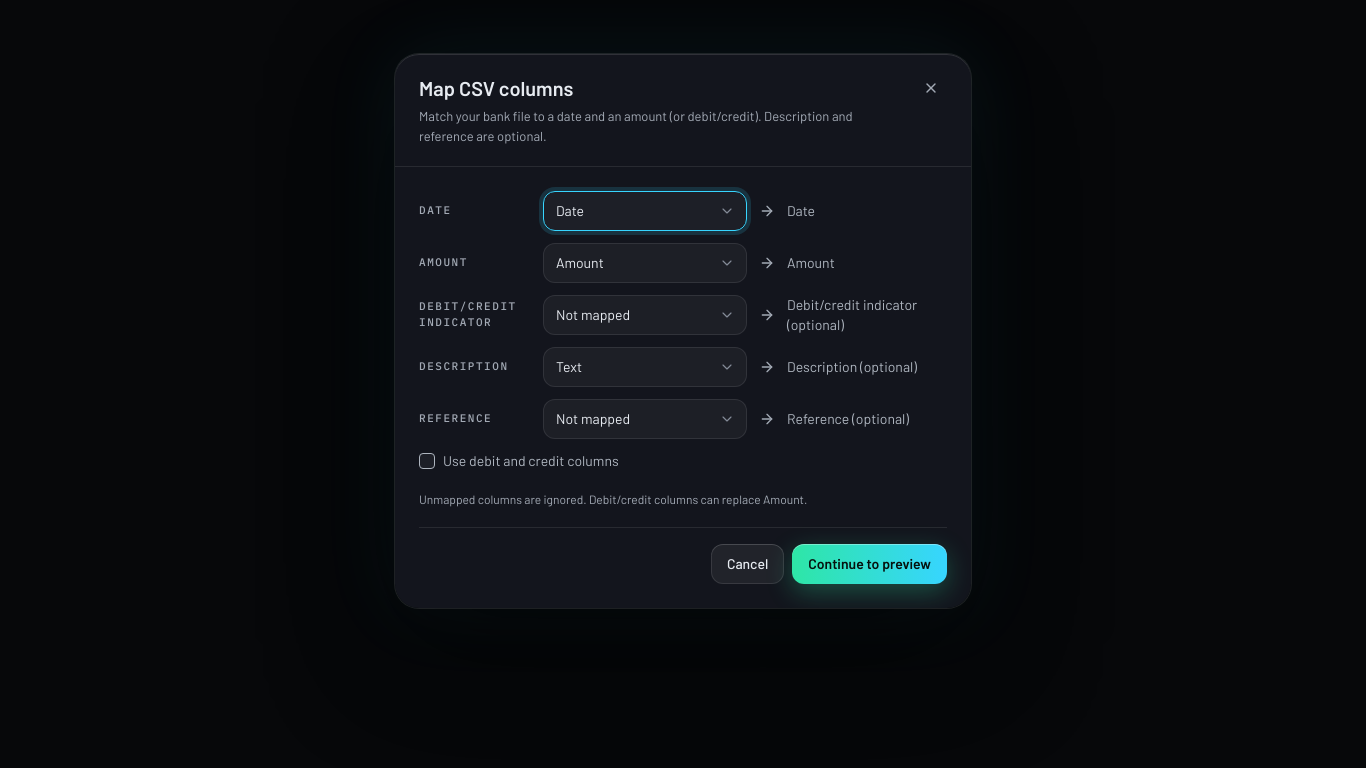
Test: CsvMappingModal required fields › a mapped required field can be set back to Not mapped, which blocks Continue
Check: the button "Continue to preview" is enabled, box left=792, top=544, right=947, bottom=584
Select "Not mapped" in the dropdown named "Amount source column" at (645, 263), box left=543, top=243, right=747, bottom=283
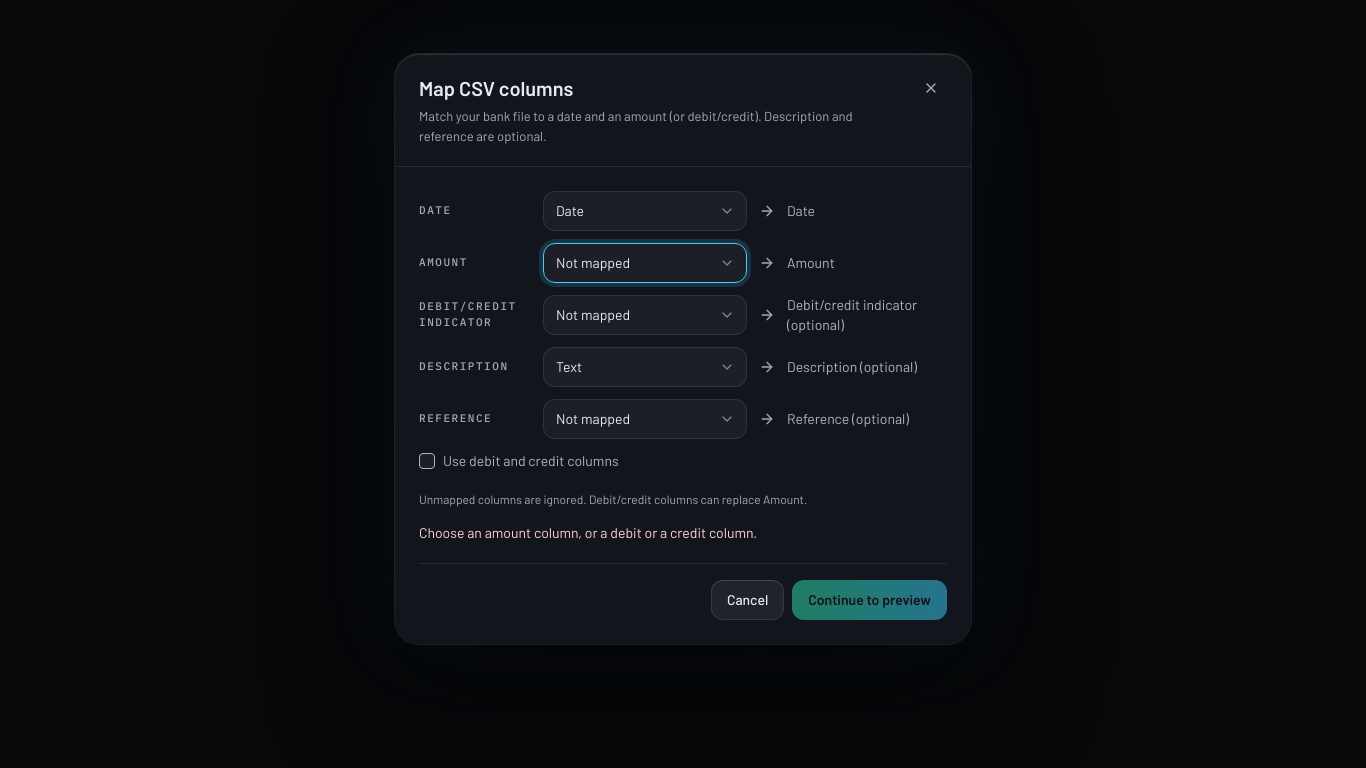
Check: the button "Continue to preview" is disabled, box left=792, top=580, right=947, bottom=620
Check: the text "Choose an amount column, or a debit or a credit column." is shown, box left=419, top=524, right=757, bottom=541
